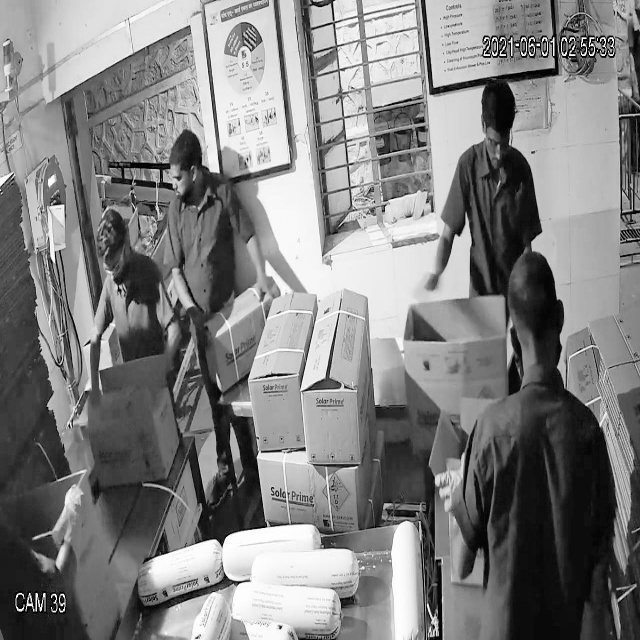Gafas: (477, 120, 516, 159)
